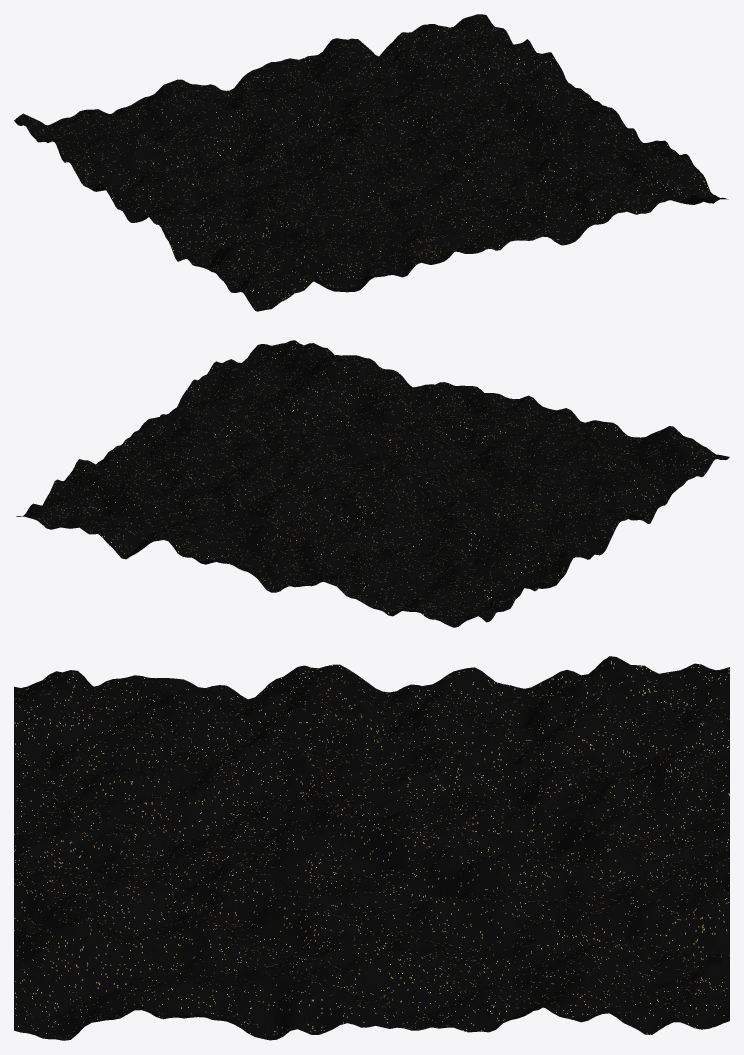
Rendered from background_025.obj.
3 renders of one model, top to bottom at view 1: azimuth 30°, elevation 25°; view 2: azimuth 150°, elevation 25°; view 3: azimuth 270°, elevation 25°, orthographic. The views are drawn at different scales.
Size of the model in its own units: 2.24 by 0.1663 by 2.
1 material, 1 textured.
